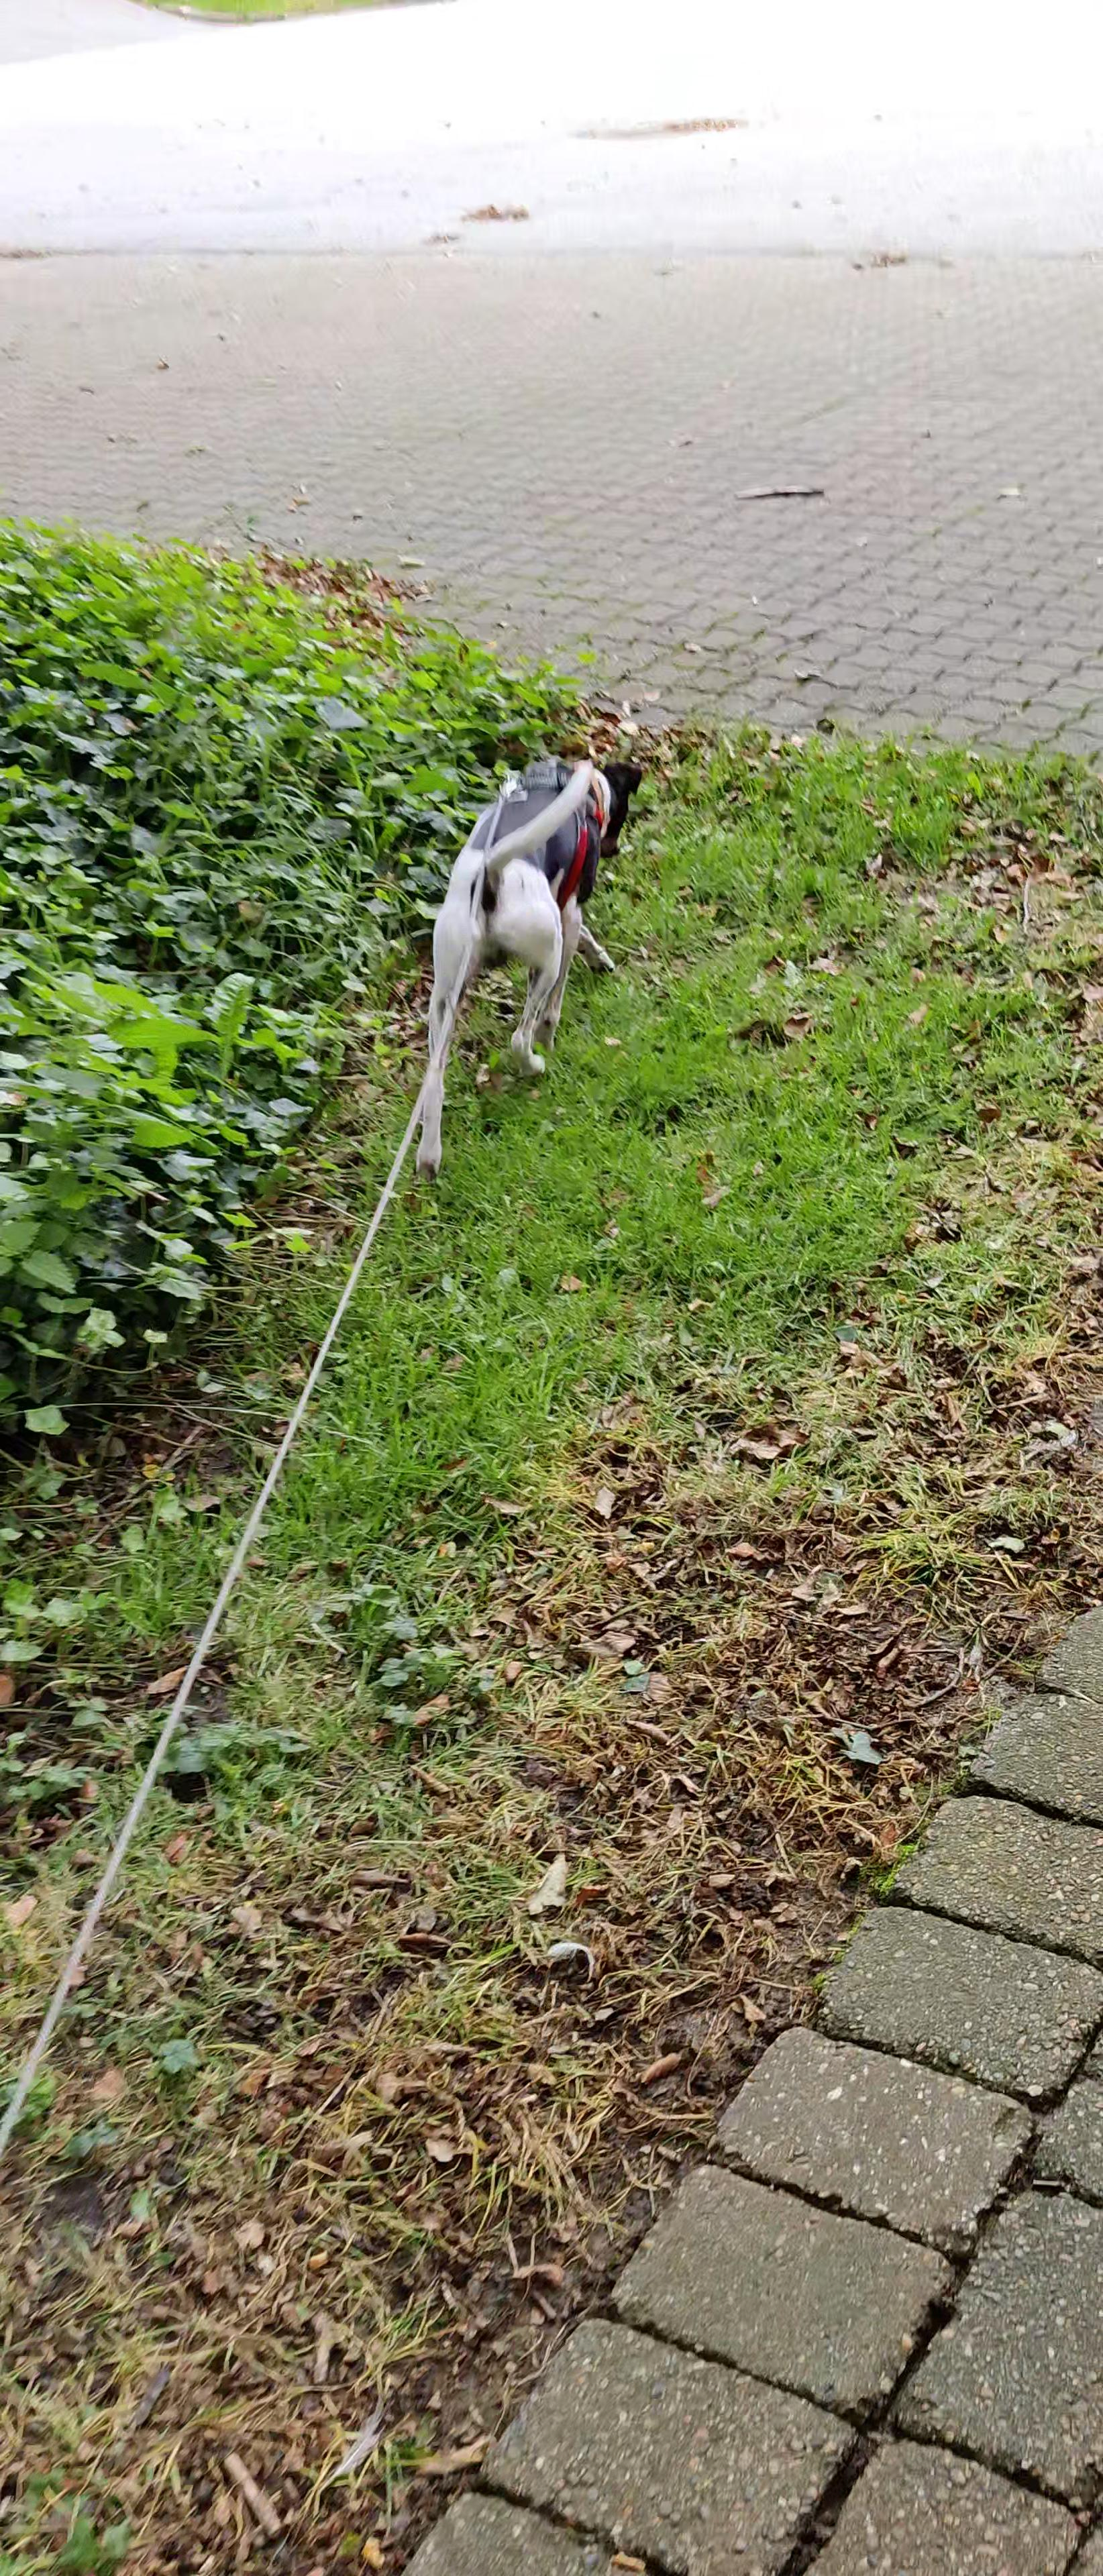Dog: (404, 749, 644, 1193)
